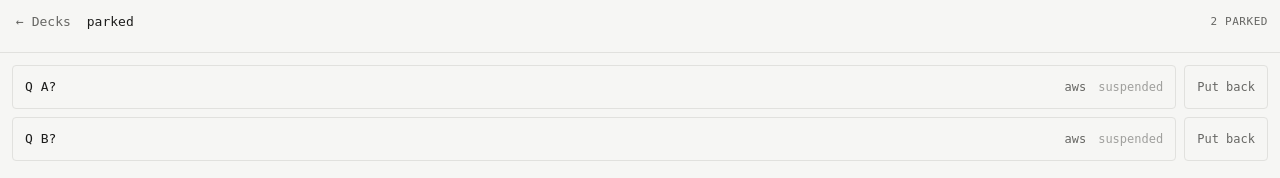
Test: ReviewParked keeps a put-back while another write to the note is out (#1142) › #1142 I7 a note with no put-back out takes the read's text, so a card parked elsewhere shows up
What coordinates should you click on to do the following:
click the 1st button "Put back"
I would click on:
 (1226, 87)
Its box is [1184,65,1268,109].
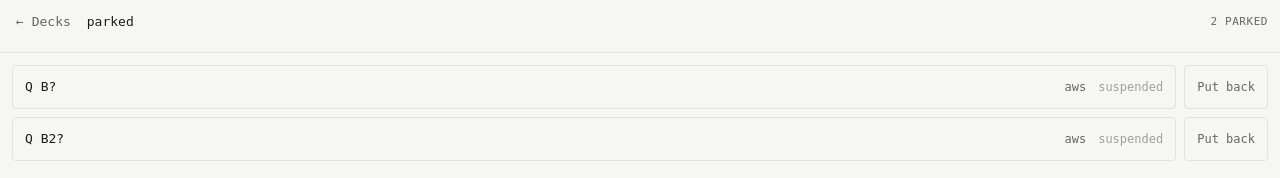
Check: the text "Q B2?" is shown, box [25,131,64,146]
